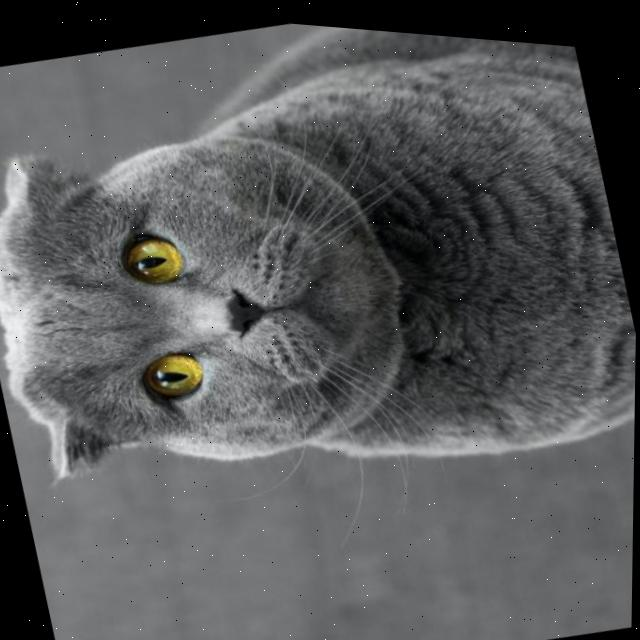Cats: (0, 20, 637, 481)
